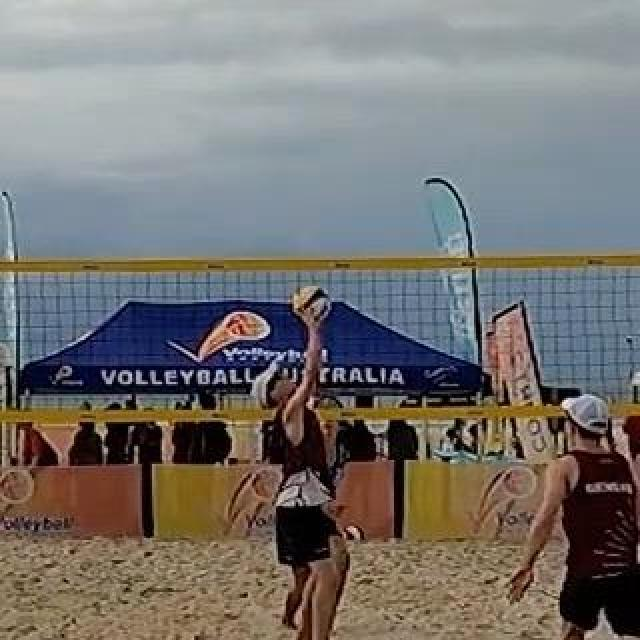volleyball: (292, 286, 332, 324), (346, 528, 364, 546)
